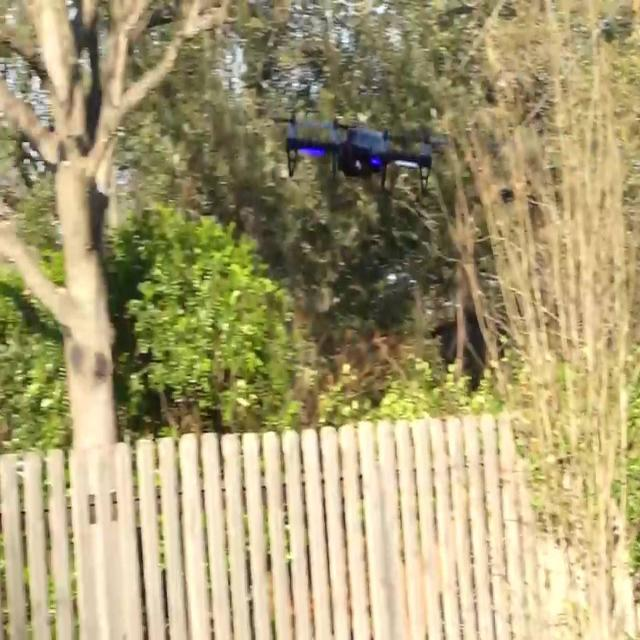drone: (272, 110, 447, 202)
